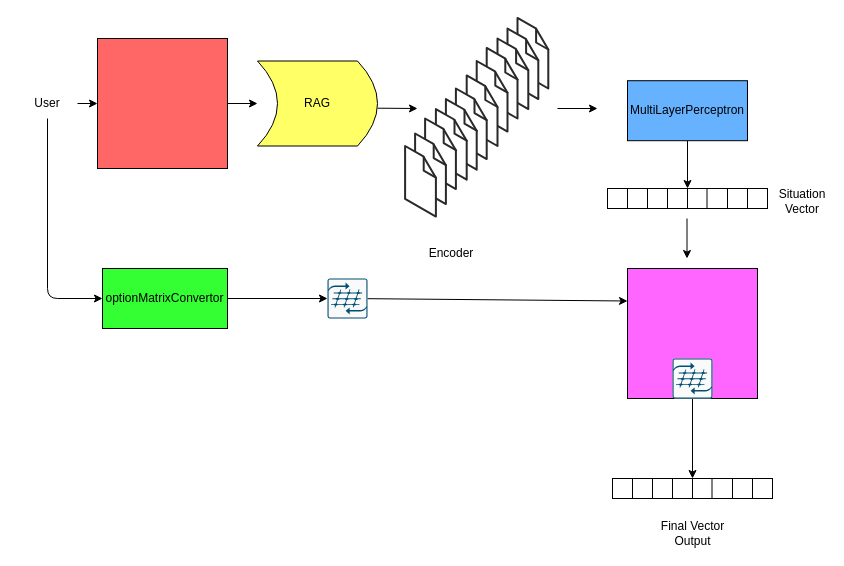
The diagram is 844 pixels wide and 566 high, and some of its shapes have lost their labels. The shapes that lost their labels are listed below. From the top down, each one's box as (x1, y1, x2, y2) in pixels, then its label:
(96, 38, 228, 168): dataUploadAndPrompt
(626, 268, 758, 398): FinalHead (Parallel Matrix Multiplication)
